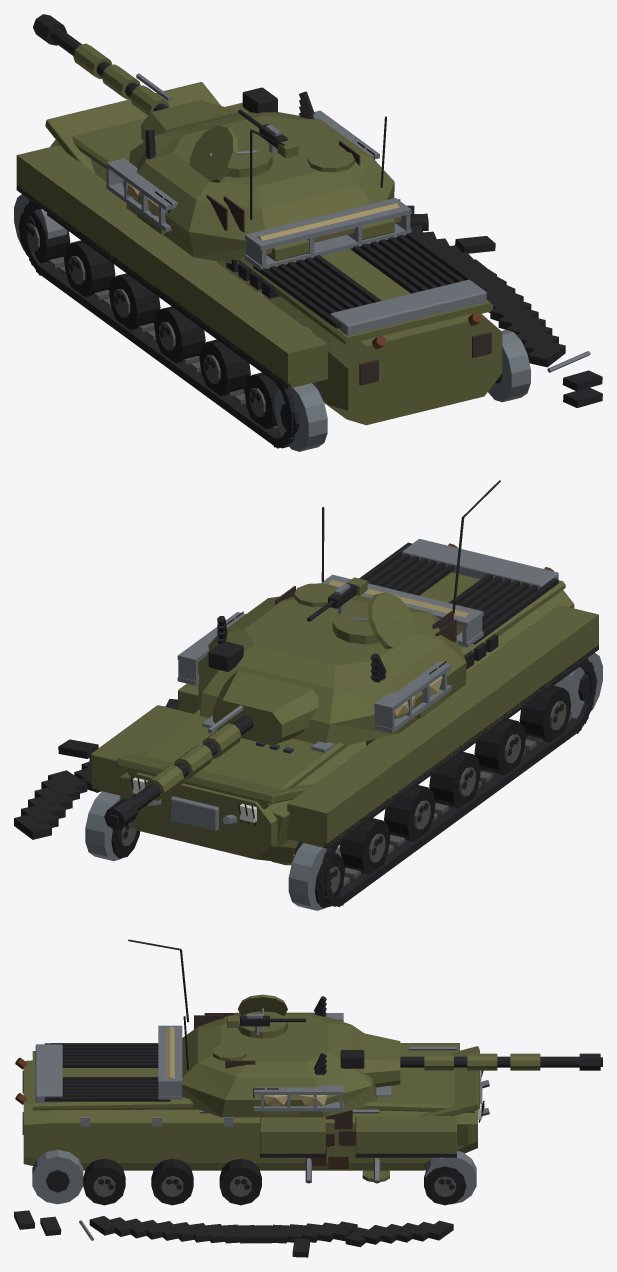
The model's file is army_tank.glb.
3 views of the same model, one above another, from view 1: azimuth 30°, elevation 25°; view 2: azimuth 150°, elevation 25°; view 3: azimuth 270°, elevation 25° (orthographic). The views are drawn at different scales.
Parts seen in each view (by area): view 1: army_tank; view 2: army_tank; view 3: army_tank.
Boxes of the visible parts, x1,y1,x2,y2 form: army_tank: (14, 14, 602, 451); army_tank: (14, 480, 602, 910); army_tank: (14, 939, 602, 1257).
Size of what is drawn, in the model's own units: 5.38 by 3.73 by 9.85.
3 materials, 3 textured.
